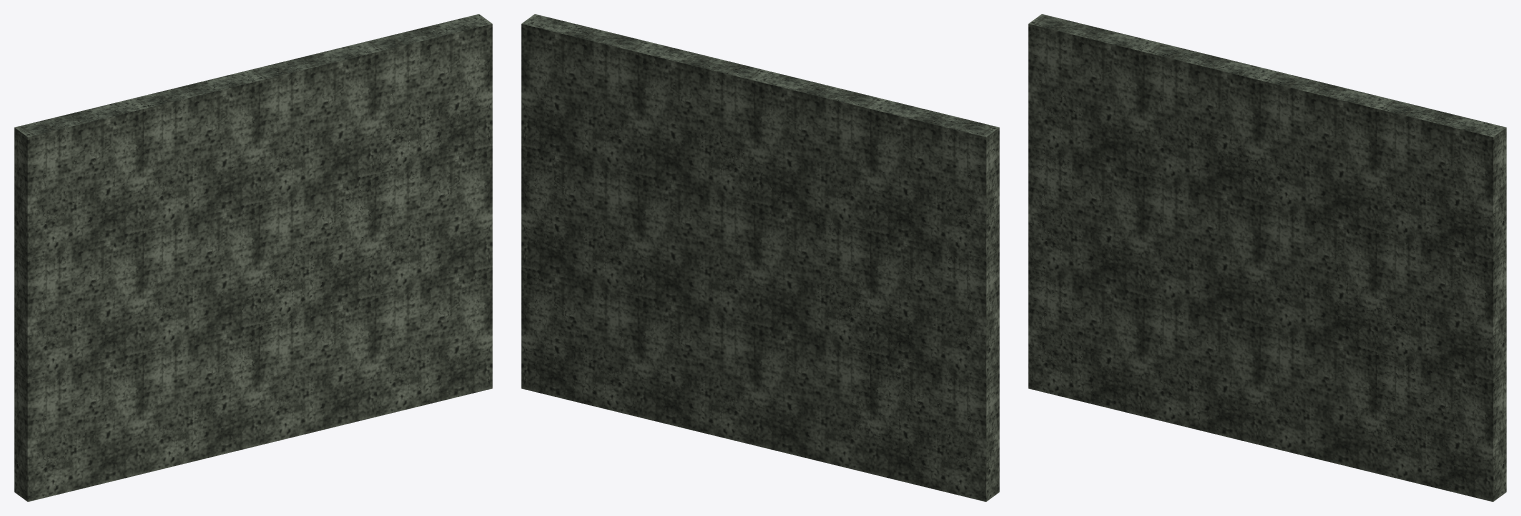
The model's file is SM_Wall_Plaster_4m.fbx.
3 renders of one model, left to right at view 1: azimuth 30°, elevation 25°; view 2: azimuth 150°, elevation 25°; view 3: azimuth 330°, elevation 25°, orthographic.
Visible parts, largest first — view 1: SM_Wall_Plaster_4m; view 2: SM_Wall_Plaster_4m; view 3: SM_Wall_Plaster_4m.
Part boxes in pixels (<box>): SM_Wall_Plaster_4m: <box>14,14,492,501</box>; SM_Wall_Plaster_4m: <box>521,14,999,501</box>; SM_Wall_Plaster_4m: <box>1028,14,1506,501</box>.
Size of the model in its own units: 4 by 3 by 0.2.
